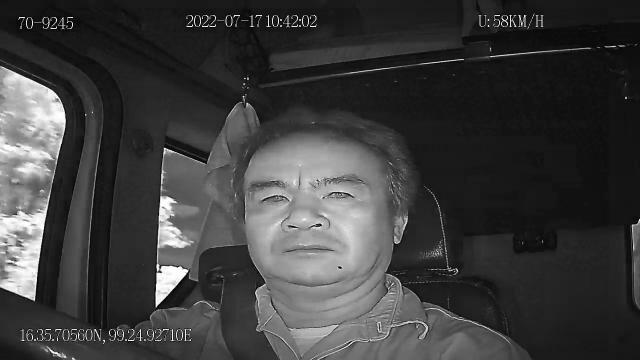SafeDriving: (250, 180, 296, 212), (316, 179, 364, 206)
Seatbelt: (218, 276, 282, 360)
